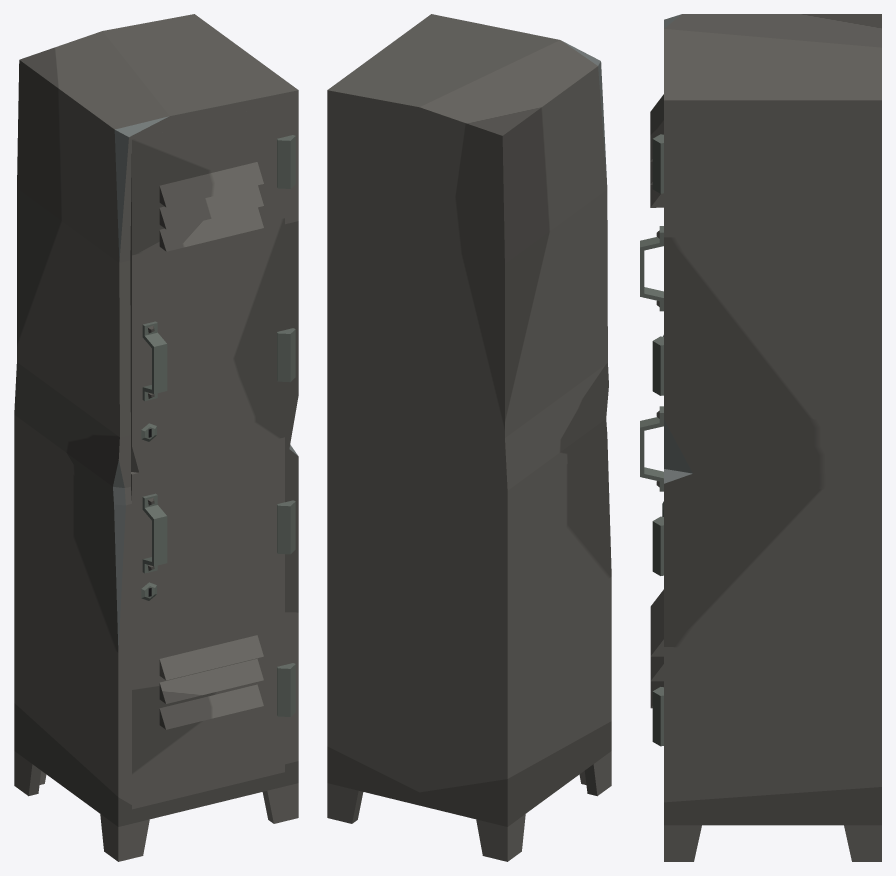
Rendered from SM_Locker_Gray.gltf.
3 renders of one model, left to right at view 1: azimuth 30°, elevation 25°; view 2: azimuth 150°, elevation 25°; view 3: azimuth 270°, elevation 25°, orthographic. The views are drawn at different scales.
Visible parts, largest first — view 1: SM_Locker_Gray, SM_Locker_Door_Up_Gray, SM_Locker_Door_Bot_Gray; view 2: SM_Locker_Gray; view 3: SM_Locker_Gray, SM_Locker_Door_Bot_Gray, SM_Locker_Door_Up_Gray.
Part boxes in pixels (x1,y1,x2,y2): SM_Locker_Gray: [14, 14, 298, 861]; SM_Locker_Door_Up_Gray: [130, 102, 295, 472]; SM_Locker_Door_Bot_Gray: [131, 437, 295, 809]; SM_Locker_Gray: [327, 14, 611, 861]; SM_Locker_Gray: [664, 14, 881, 861]; SM_Locker_Door_Bot_Gray: [640, 406, 663, 746]; SM_Locker_Door_Up_Gray: [640, 94, 663, 395].
Size of the model in its own units: 0.5405 by 2.1 by 0.6001.
1 material, 1 textured.
